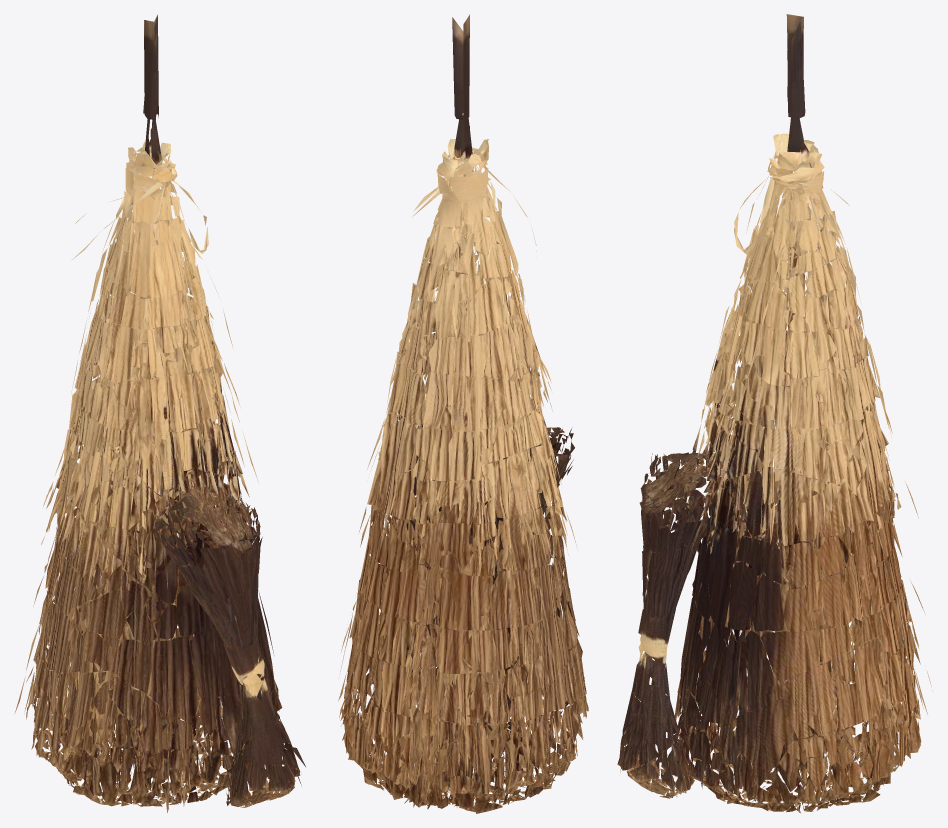
The model's file is wara.glb.
3 renders of one model, left to right at view 1: azimuth 30°, elevation 25°; view 2: azimuth 150°, elevation 25°; view 3: azimuth 270°, elevation 25°, orthographic.
Parts seen in each view (by area): view 1: Mesh_0; view 2: Mesh_0; view 3: Mesh_0.
Part boxes in pixels (bbox=[...]): Mesh_0: bbox=[14, 14, 305, 812]; Mesh_0: bbox=[338, 14, 588, 813]; Mesh_0: bbox=[617, 14, 931, 813].
Size of the model in its own units: 0.5705 by 1.9 by 0.7072.
1 material, 1 textured.
